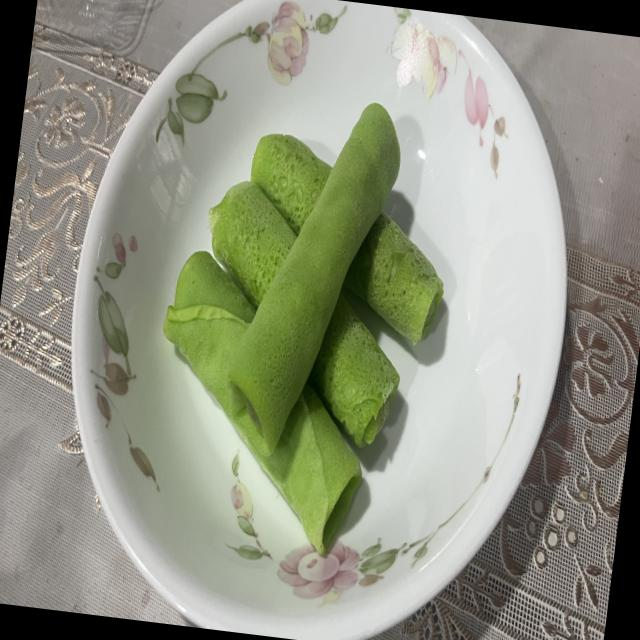Kuih-Ketayap: (228, 103, 400, 453), (163, 251, 361, 553), (308, 295, 399, 446), (343, 211, 443, 343), (208, 181, 295, 308), (251, 133, 330, 234)
